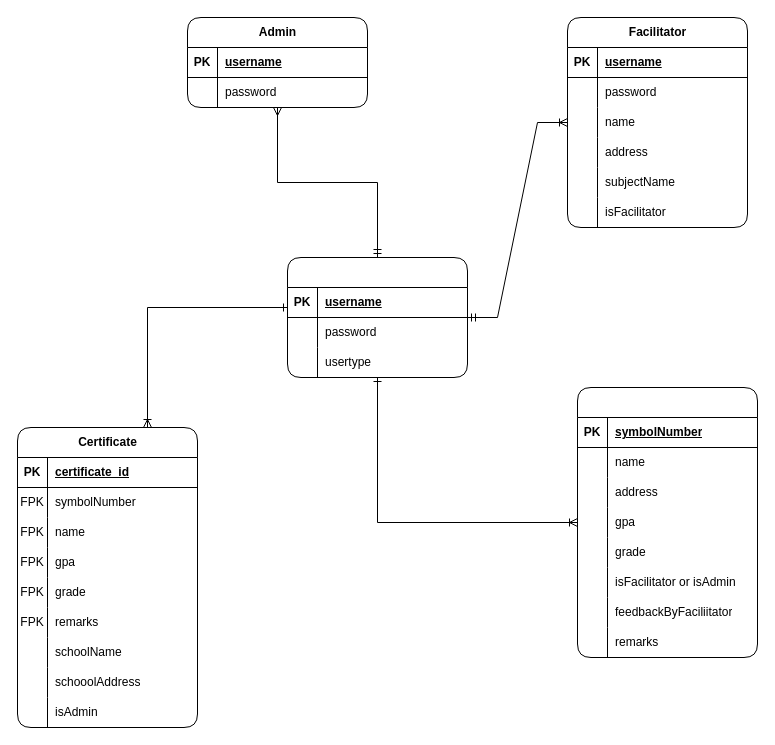
Some shapes in this 775 by 745 pixel diagram are drawn without their labels. Each missing label, with the box of its shape:
Login: (286, 256, 468, 378)
Student: (576, 386, 758, 658)
